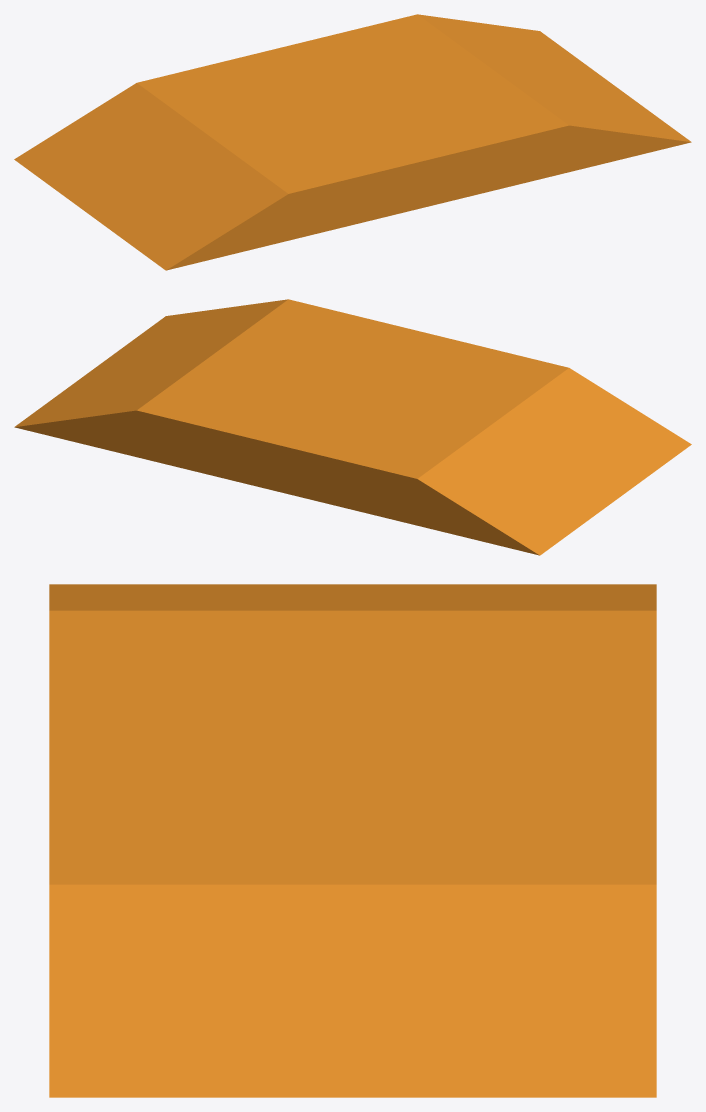
The model's file is Ramp.dae.
3 views of the same model, one above another, from view 1: azimuth 30°, elevation 25°; view 2: azimuth 150°, elevation 25°; view 3: azimuth 270°, elevation 25° (orthographic). The views are drawn at different scales.
Parts seen in each view (by area): view 1: ID2; view 2: ID2; view 3: ID2.
Part boxes in pixels (<box>): ID2: <box>14,14,691,270</box>; ID2: <box>14,299,691,555</box>; ID2: <box>49,584,656,1097</box>.
Size of the model in its own units: 0.4 by 0.2 by 0.034.
